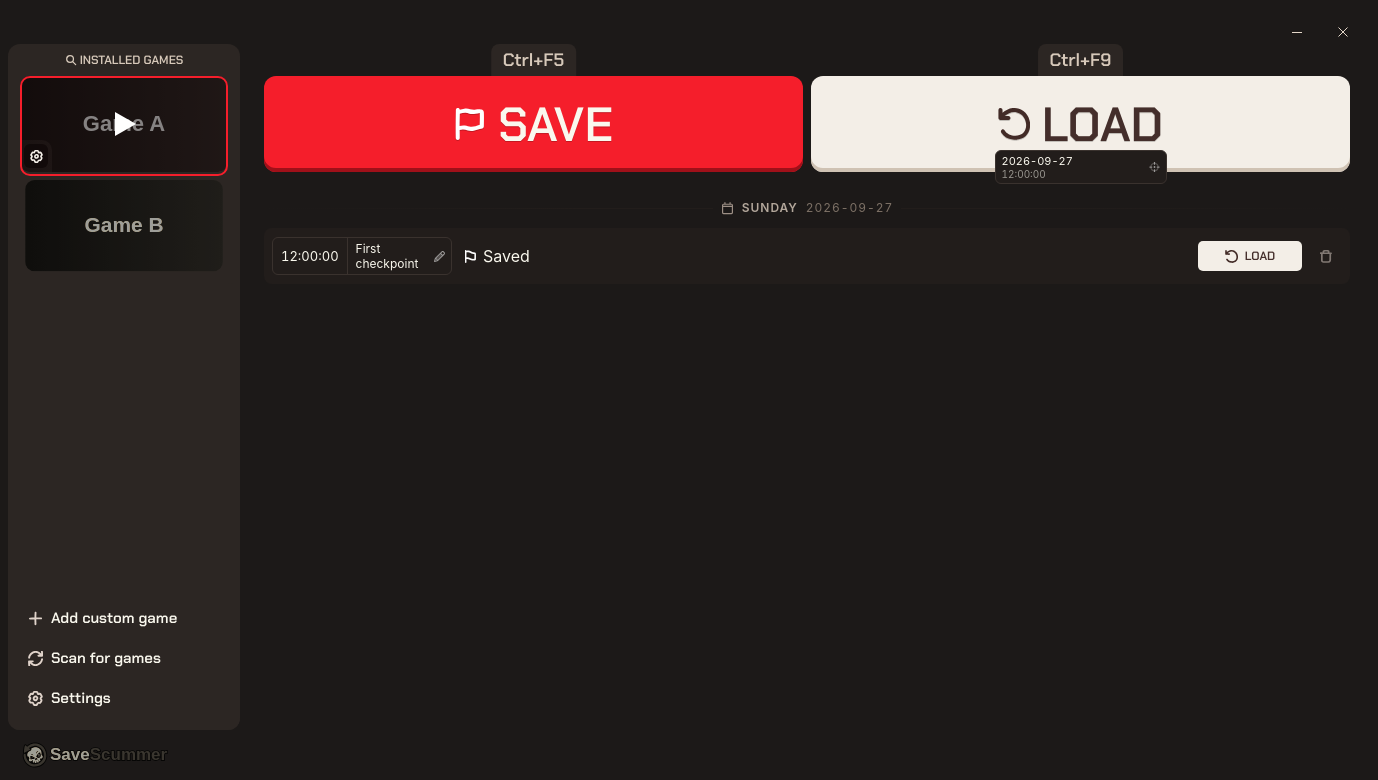
Test case: cards show Play while stopped and expose Terminate only when the host permits it
What coordinates should you click on to do the following:
click the button named "Play Game A"
I would click on:
 (124, 124)
Its box is [20,76,228,172].
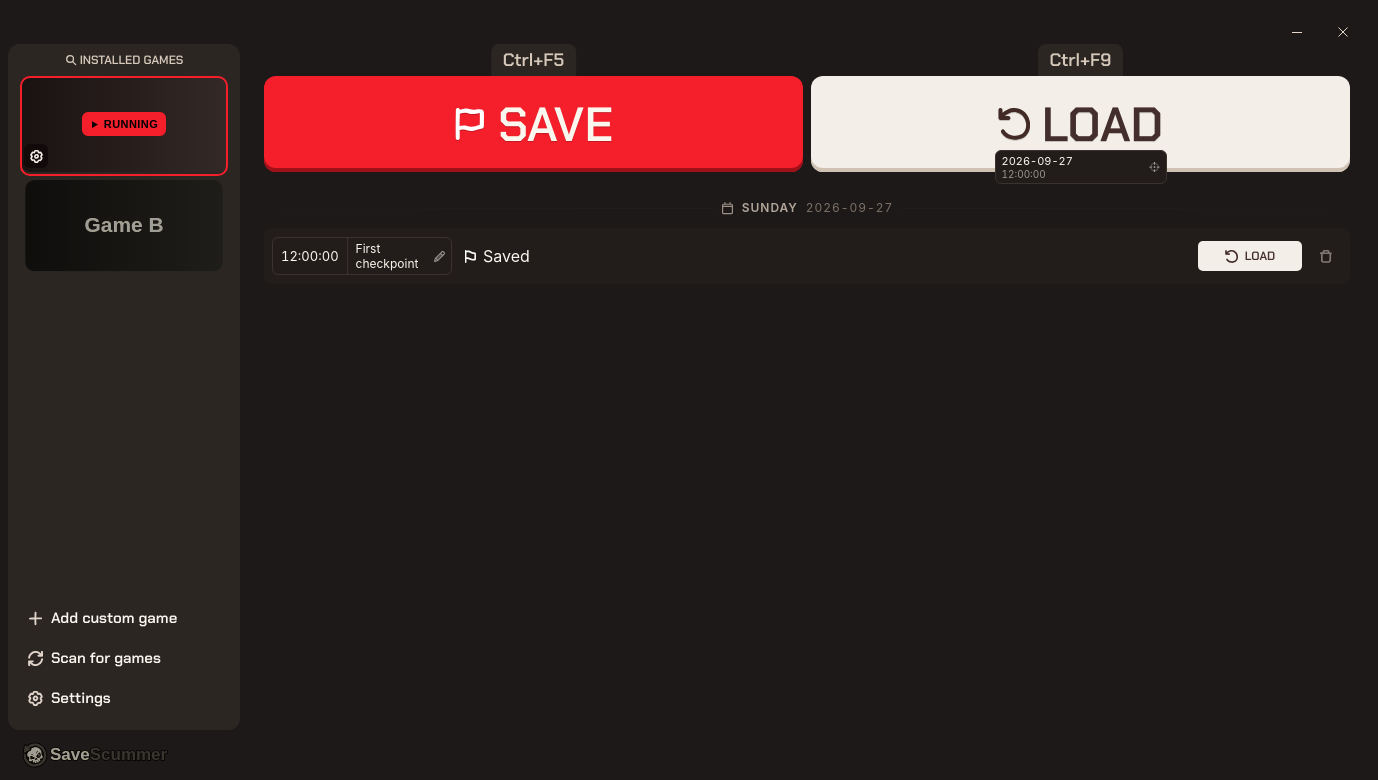
What coordinates should you click on to do the following:
click the button with aria-label "Terminate Game A"
I would click on:
 (124, 124)
Its box is [82,112,166,136].
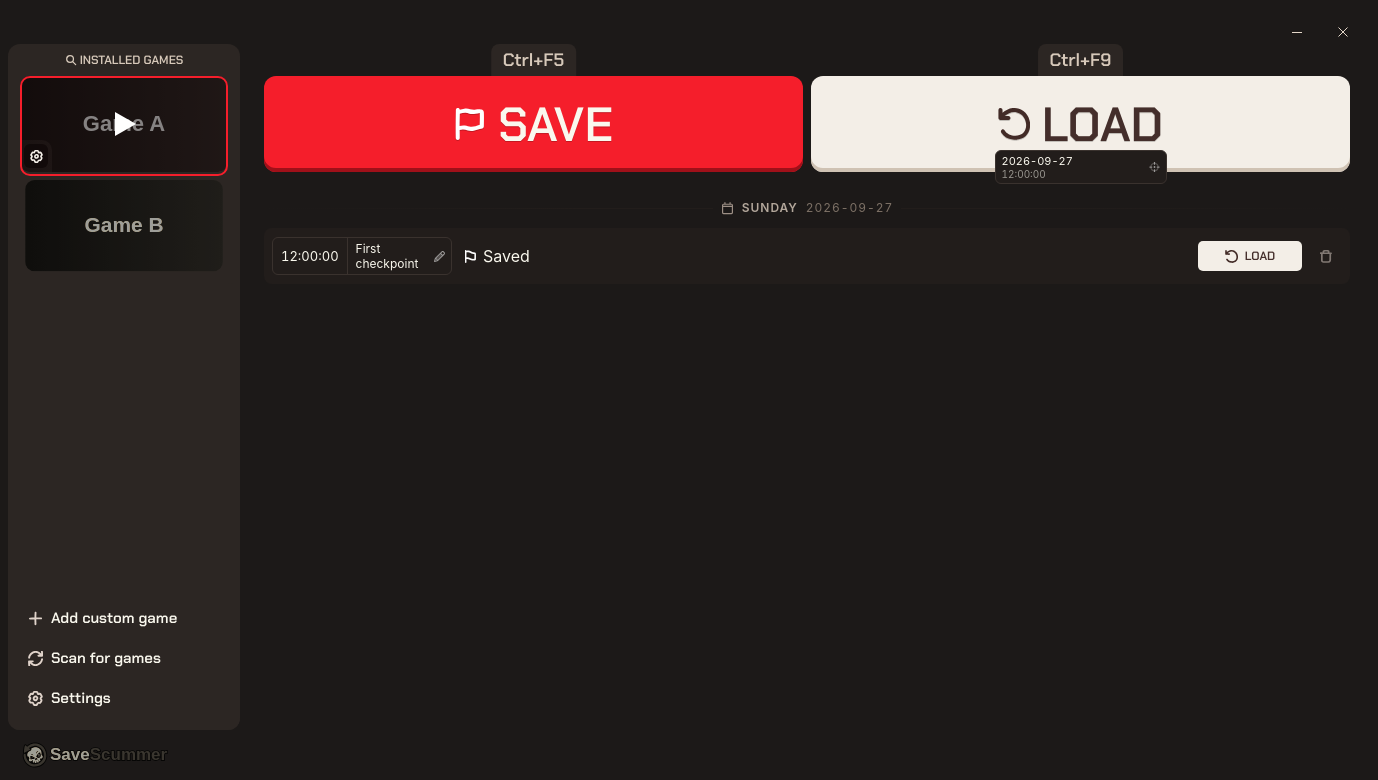
Now the button named "Play Game A" is shown, box [20,76,228,172]
